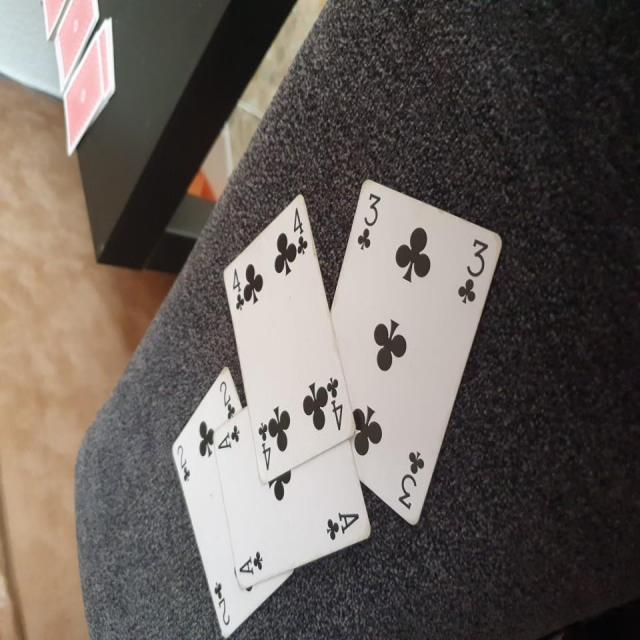2 Trefoils: (172, 365, 297, 640)
3 Trefoils: (330, 176, 503, 525)
4 Trefoils: (222, 193, 356, 483)
A Trefoils: (212, 402, 373, 588)
